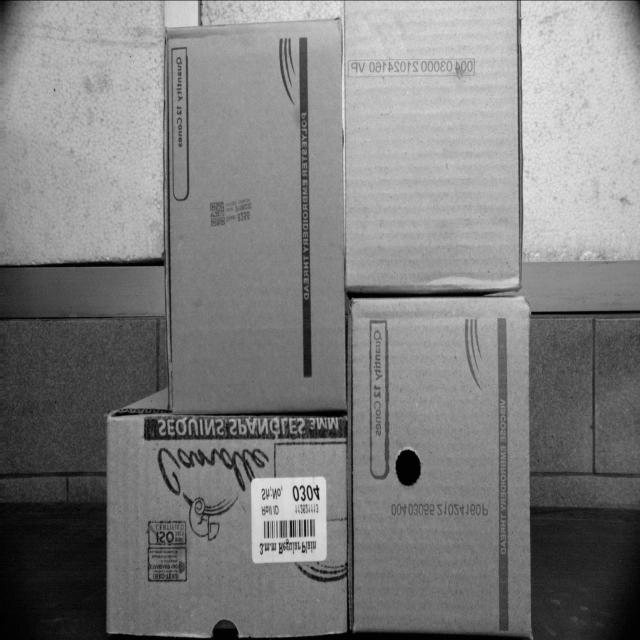cardboxes: (162, 24, 346, 406), (349, 296, 531, 639), (105, 417, 349, 639), (346, 0, 522, 291)
